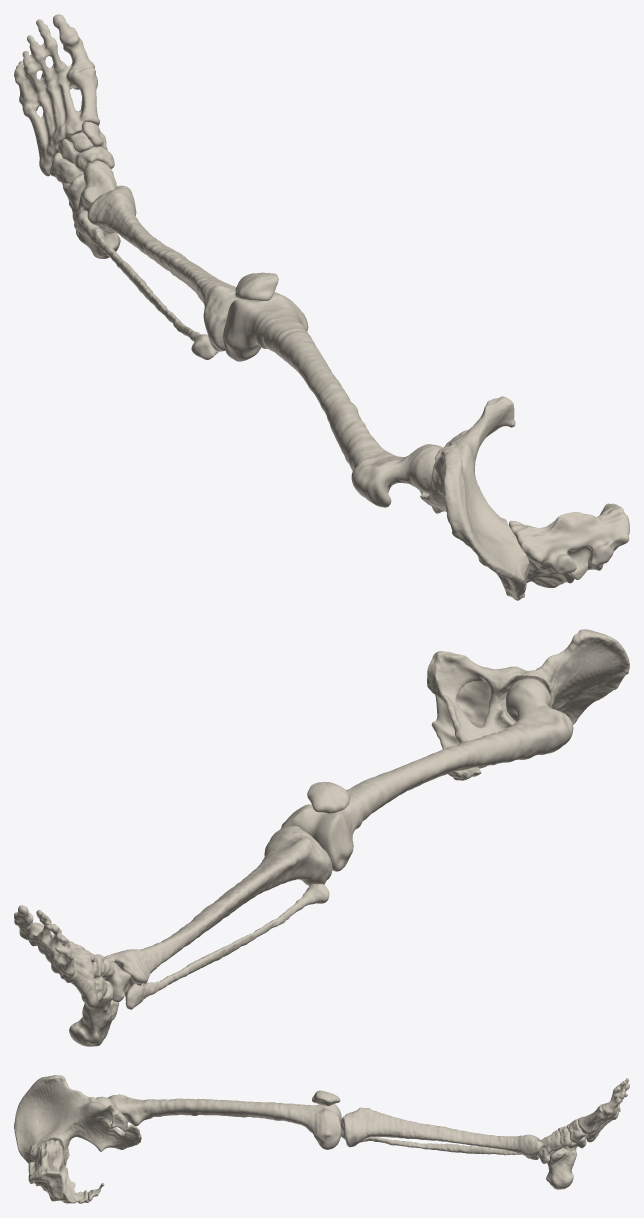
Rendered from vhf-left-bone.glb.
The picture shows the model from 3 angles, top to bottom: view 1: azimuth 30°, elevation 25°; view 2: azimuth 150°, elevation 25°; view 3: azimuth 270°, elevation 25°; orthographic projection. The views are drawn at different scales.
Parts seen in each view (by area): view 1: vhf-left-bone-femur, vhf-left-bone-pelvis, vhf-left-bone-phalanges, vhf-left-bone-sacrum, vhf-left-bone-tibia, vhf-left-bone-fibula, vhf-left-bone-talus, vhf-left-bone-calcaneous, vhf-left-bone-patella; view 2: vhf-left-bone-femur, vhf-left-bone-pelvis, vhf-left-bone-tibia, vhf-left-bone-phalanges, vhf-left-bone-fibula, vhf-left-bone-sacrum, vhf-left-bone-calcaneous, vhf-left-bone-patella, vhf-left-bone-talus; view 3: vhf-left-bone-pelvis, vhf-left-bone-femur, vhf-left-bone-tibia, vhf-left-bone-sacrum, vhf-left-bone-phalanges, vhf-left-bone-calcaneous, vhf-left-bone-fibula, vhf-left-bone-talus, vhf-left-bone-patella, vhf-left-bone-medialcuneiform, vhf-left-bone-navicular.
Boxes of the visible parts, left/top/right/bottom form: vhf-left-bone-femur: left=223, top=292, right=443, bottom=507; vhf-left-bone-pelvis: left=419, top=396, right=529, bottom=600; vhf-left-bone-phalanges: left=14, top=14, right=99, bottom=176; vhf-left-bone-sacrum: left=509, top=503, right=629, bottom=587; vhf-left-bone-tibia: left=87, top=185, right=257, bottom=351; vhf-left-bone-fibula: left=74, top=209, right=218, bottom=359; vhf-left-bone-talus: left=78, top=160, right=117, bottom=210; vhf-left-bone-calcaneous: left=61, top=174, right=120, bottom=258; vhf-left-bone-patella: left=235, top=272, right=278, bottom=300; vhf-left-bone-femur: left=281, top=678, right=573, bottom=871; vhf-left-bone-pelvis: left=427, top=629, right=629, bottom=743; vhf-left-bone-tibia: left=104, top=826, right=332, bottom=994; vhf-left-bone-phalanges: left=14, top=905, right=98, bottom=1008; vhf-left-bone-fibula: left=125, top=883, right=329, bottom=1009; vhf-left-bone-sacrum: left=431, top=681, right=496, bottom=780; vhf-left-bone-calcaneous: left=69, top=980, right=119, bottom=1046; vhf-left-bone-patella: left=307, top=782, right=349, bottom=813; vhf-left-bone-talus: left=101, top=958, right=131, bottom=1002; vhf-left-bone-pelvis: left=14, top=1075, right=141, bottom=1166; vhf-left-bone-femur: left=95, top=1094, right=341, bottom=1149; vhf-left-bone-tibia: left=341, top=1107, right=542, bottom=1159; vhf-left-bone-sacrum: left=28, top=1140, right=89, bottom=1203; vhf-left-bone-phalanges: left=577, top=1078, right=629, bottom=1142; vhf-left-bone-calcaneous: left=546, top=1146, right=577, bottom=1189; vhf-left-bone-fibula: left=360, top=1137, right=551, bottom=1155; vhf-left-bone-talus: left=538, top=1130, right=562, bottom=1163; vhf-left-bone-patella: left=312, top=1090, right=340, bottom=1106; vhf-left-bone-medialcuneiform: left=568, top=1119, right=586, bottom=1142; vhf-left-bone-navicular: left=558, top=1126, right=571, bottom=1146.
Size of the model in its own units: 220 by 217 by 1014.
